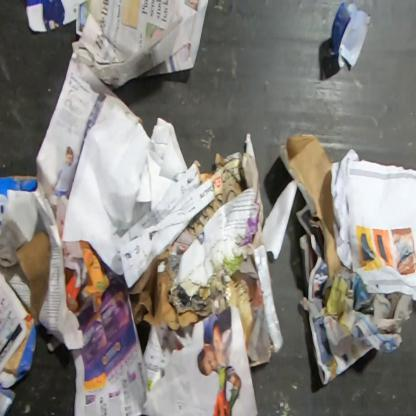cardboard: (278, 133, 344, 280), (0, 313, 38, 416), (0, 174, 38, 228)
rigid_plastic: (330, 0, 372, 72)
